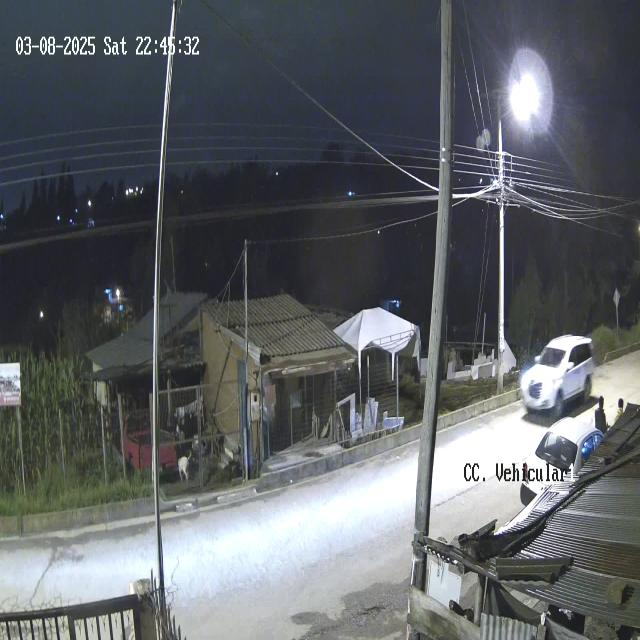SUV: (520, 332, 595, 415)
